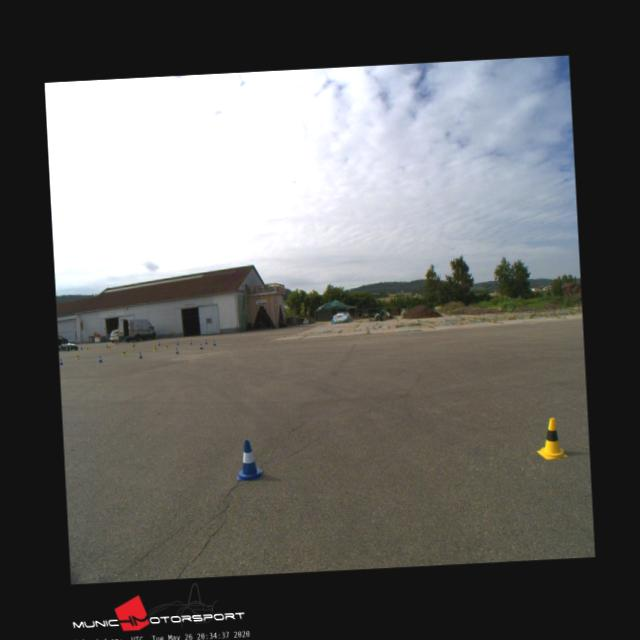blue_cone: (234, 440, 262, 480), (60, 358, 64, 364), (138, 352, 142, 358), (99, 356, 102, 362), (176, 348, 179, 354), (213, 340, 216, 346), (80, 346, 84, 350), (158, 341, 161, 346), (176, 340, 179, 345), (200, 344, 202, 350), (205, 340, 208, 344), (190, 340, 192, 344)
yellow_cone: (534, 416, 568, 459), (122, 351, 126, 356), (76, 354, 79, 359), (154, 346, 157, 351), (165, 344, 168, 349), (108, 345, 111, 350), (131, 345, 134, 349), (85, 346, 88, 350)
